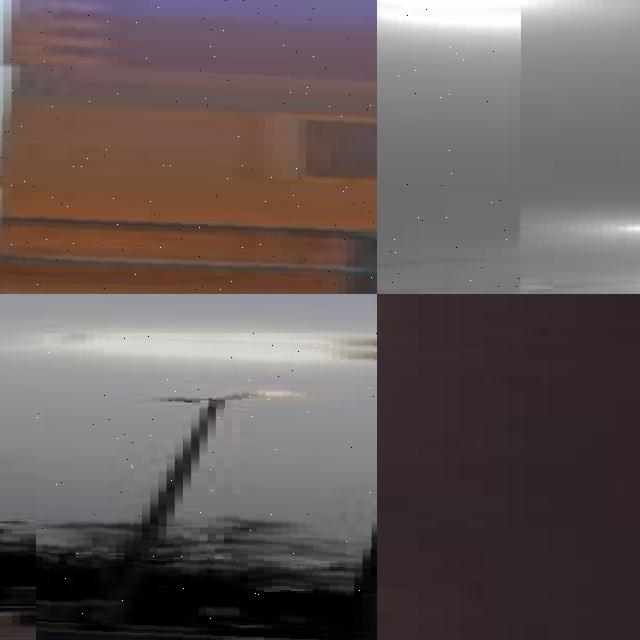street light: (0, 0, 377, 294), (36, 333, 377, 640), (69, 381, 307, 609), (377, 0, 520, 294), (377, 223, 640, 294)
